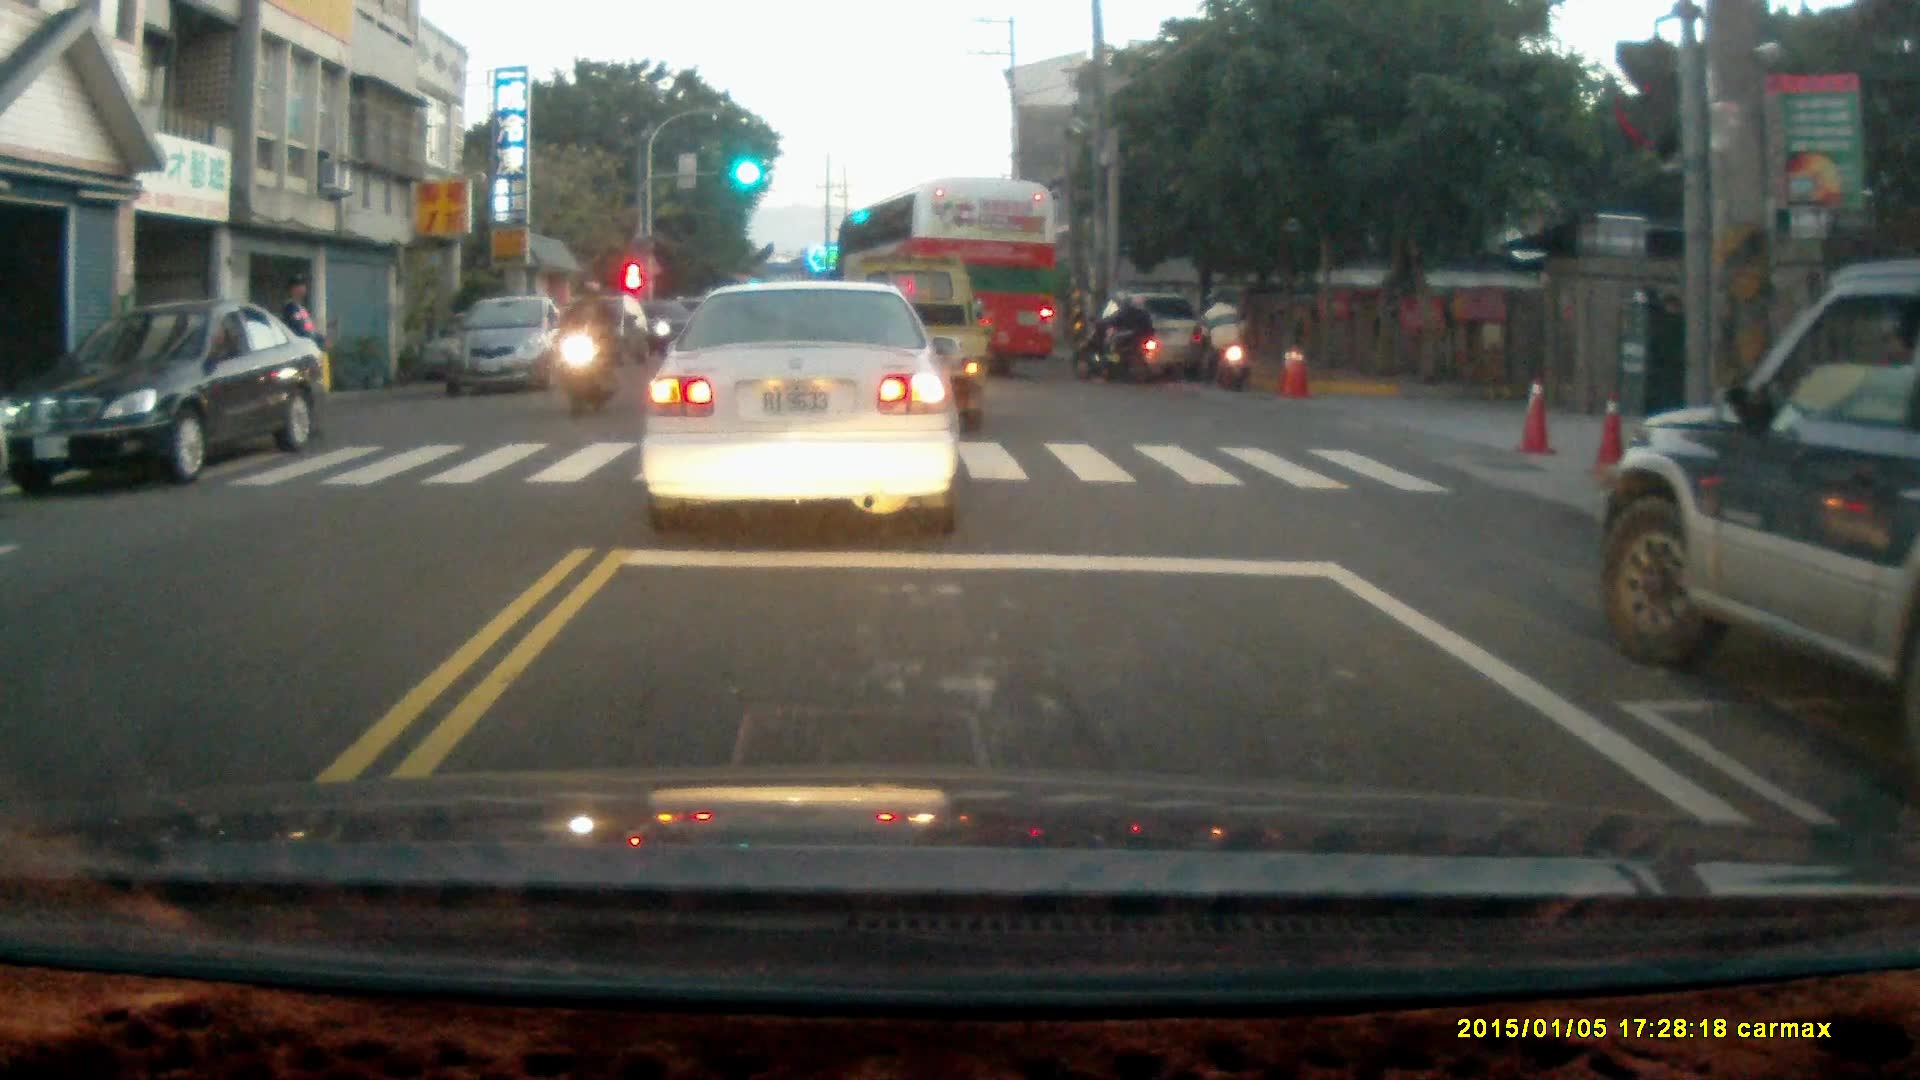pedestrian: (279, 274, 325, 432)
rider: (555, 277, 619, 417), (1077, 288, 1151, 382), (1195, 288, 1252, 394)
vehicle: (1604, 260, 1920, 808), (642, 274, 961, 534), (7, 301, 327, 498), (835, 173, 1063, 382), (433, 292, 581, 395), (1093, 290, 1211, 381), (557, 298, 651, 373)
